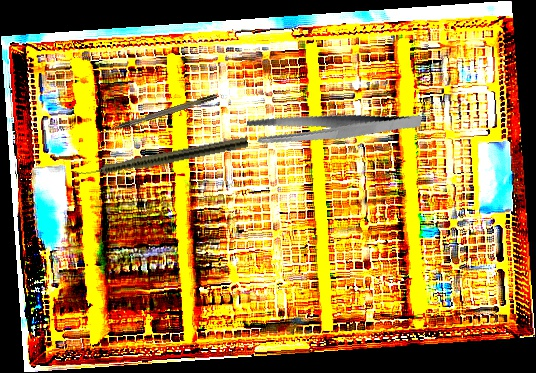Dressing Forceps: (243, 79, 423, 176)
Handpiece: (72, 134, 249, 182)
Hook Surgical: (98, 93, 218, 136)
